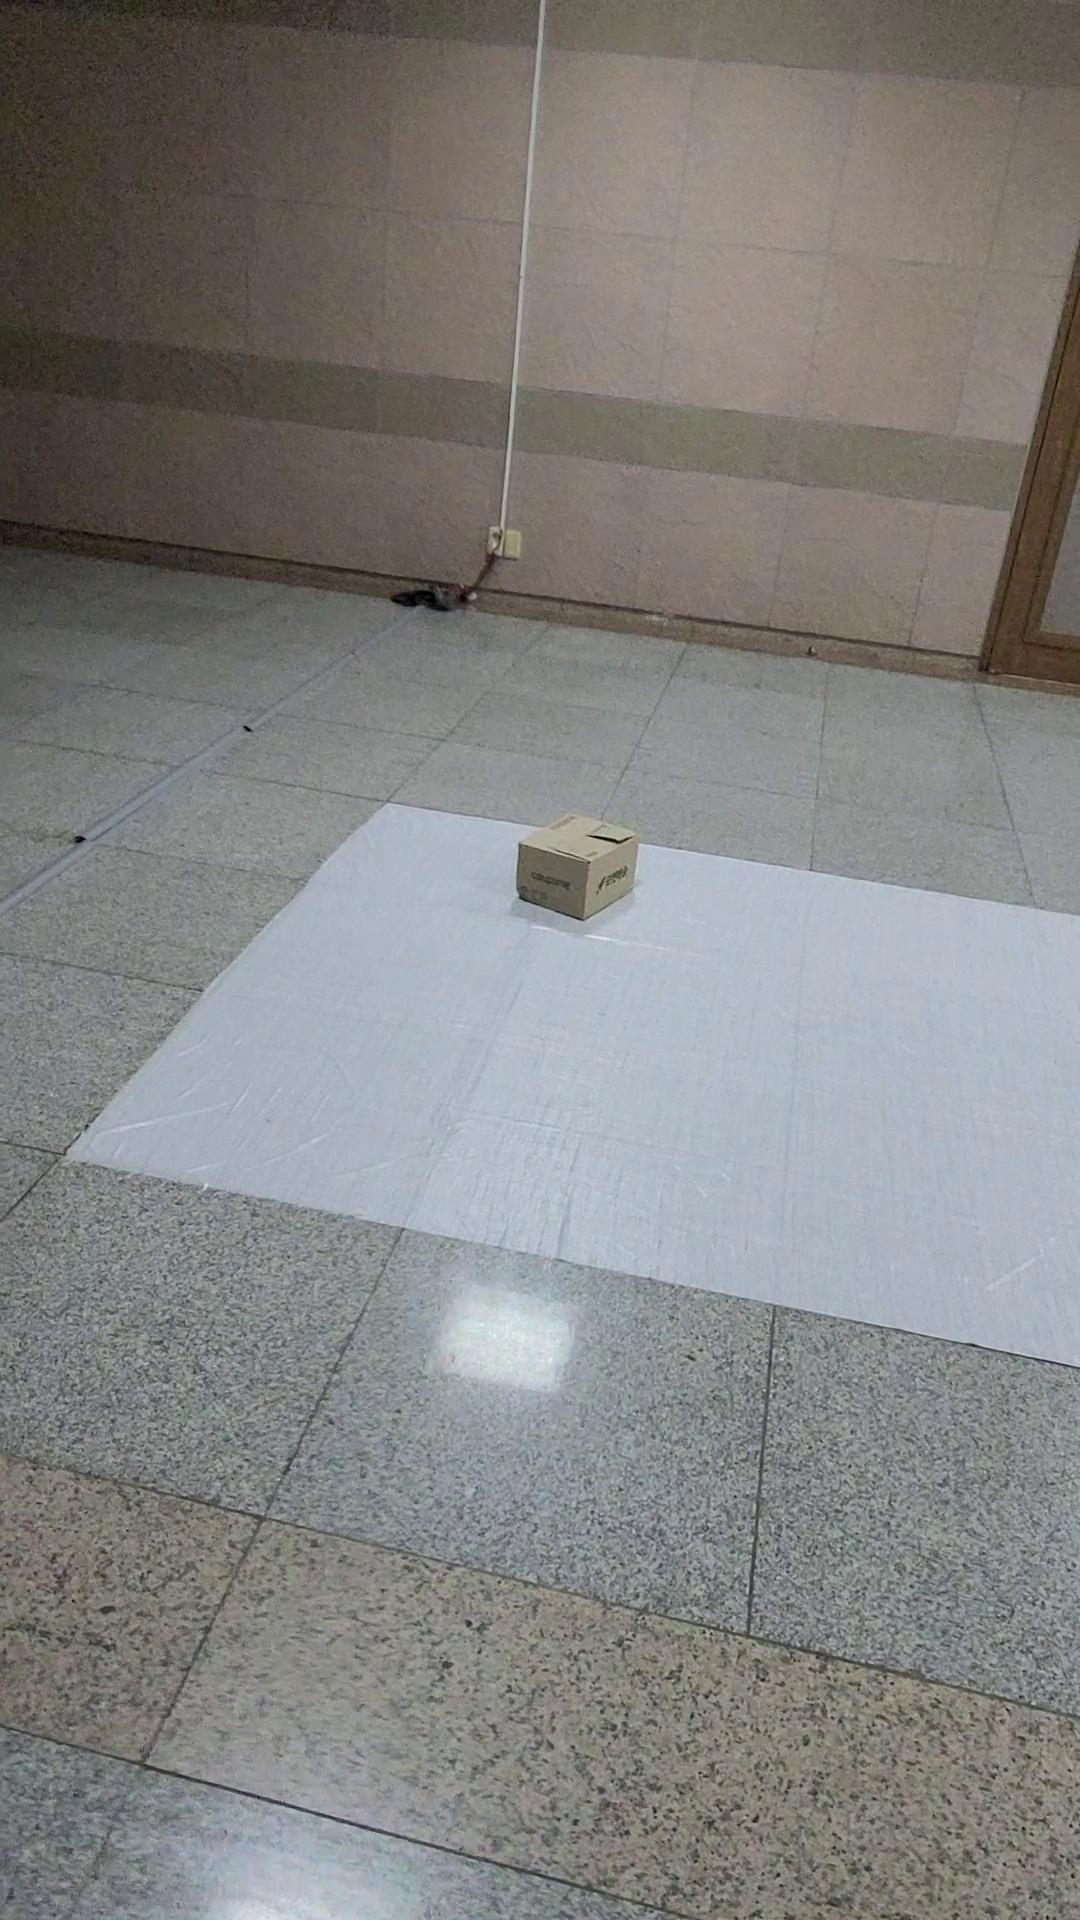Box: (521, 803, 658, 938)
